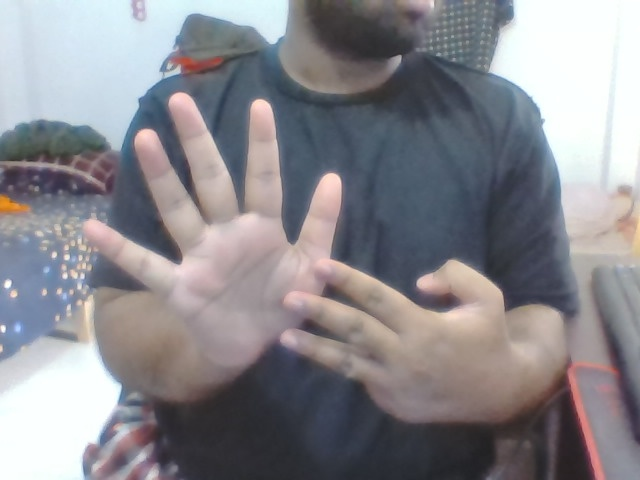M: (75, 90, 506, 462)
